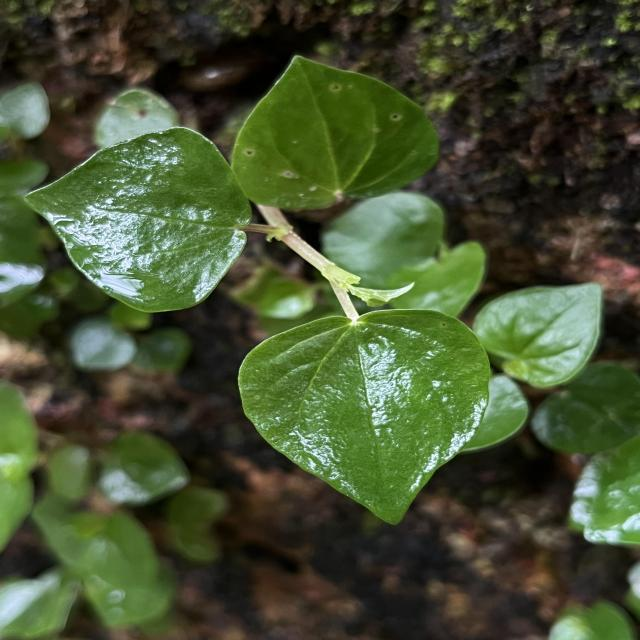Peperomia pellucida: (233, 305, 494, 529), (22, 121, 254, 318)
